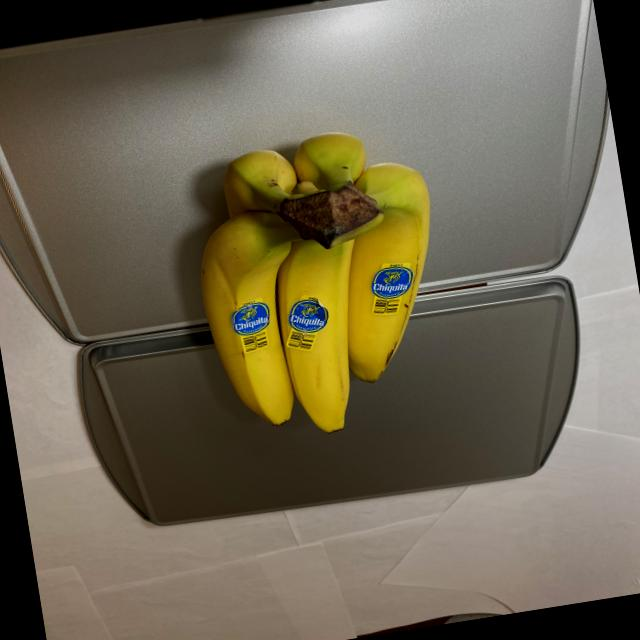banana: (183, 119, 467, 456)
